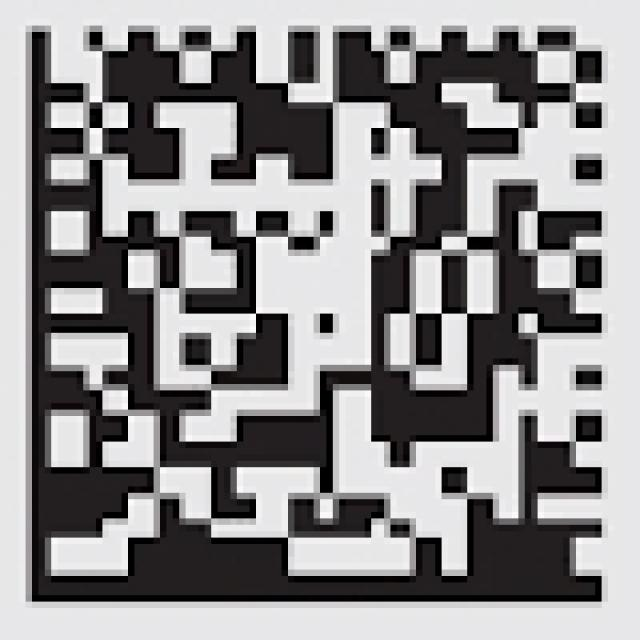DataMatrix: (19, 12, 640, 614)
